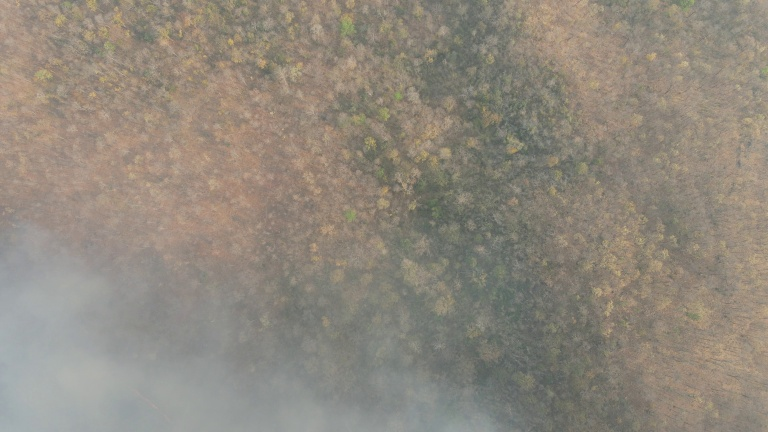fire: (130, 381, 162, 414)
smoke: (3, 242, 274, 432)
